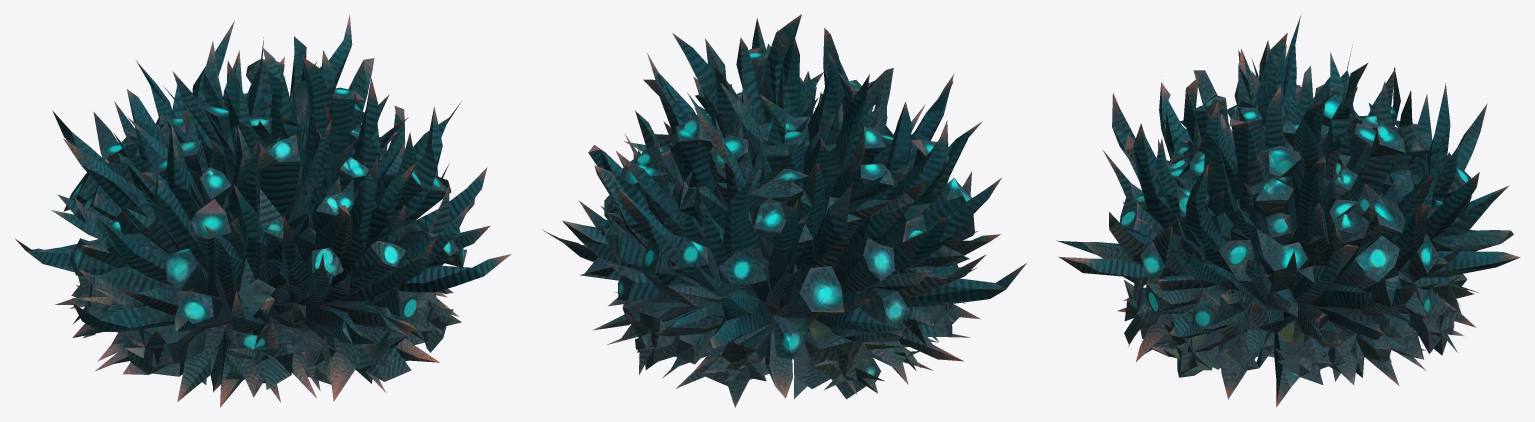
Rendered from p_bush.glb.
The picture shows the model from 3 angles, left to right: view 1: azimuth 30°, elevation 25°; view 2: azimuth 150°, elevation 25°; view 3: azimuth 270°, elevation 25°; orthographic projection. The views are drawn at different scales.
Bounding box in the file's own units: 1.82 × 1.27 × 1.85.
1 material, 1 textured.
